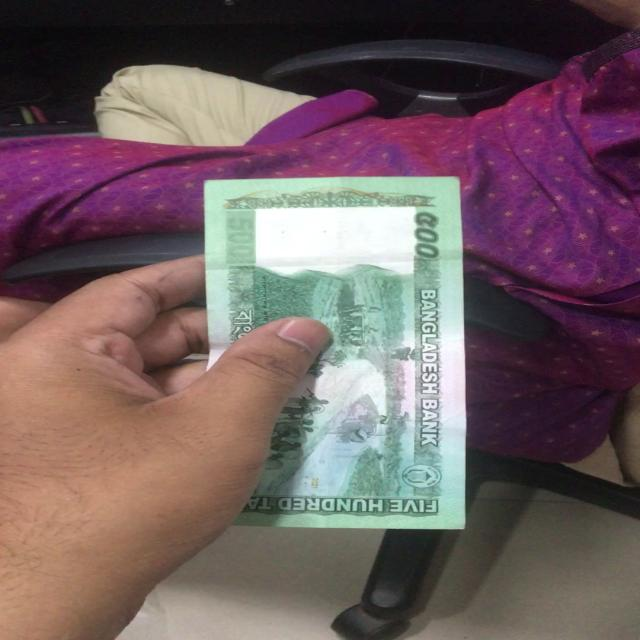Taka: (196, 184, 462, 528)
